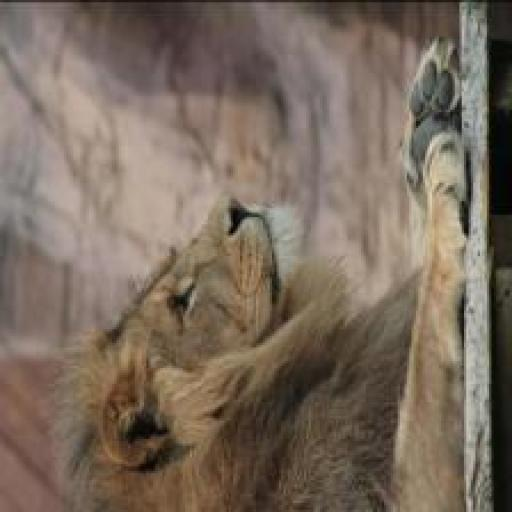lion: (52, 20, 476, 511)
